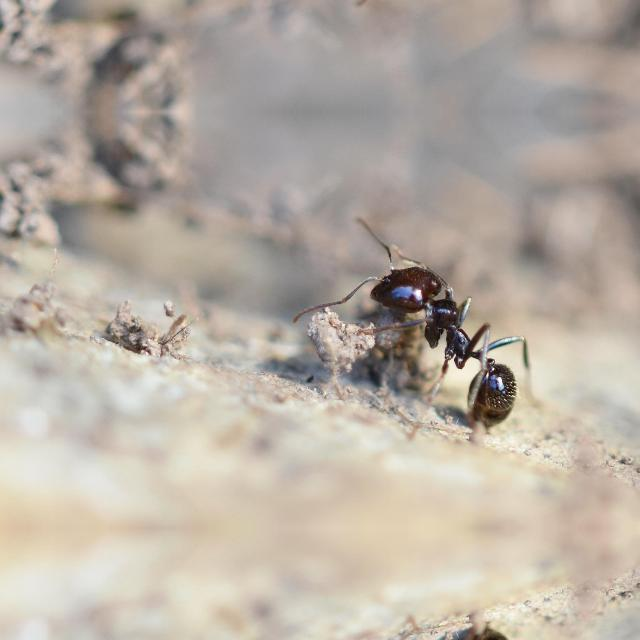Messor: (332, 238, 538, 436)
